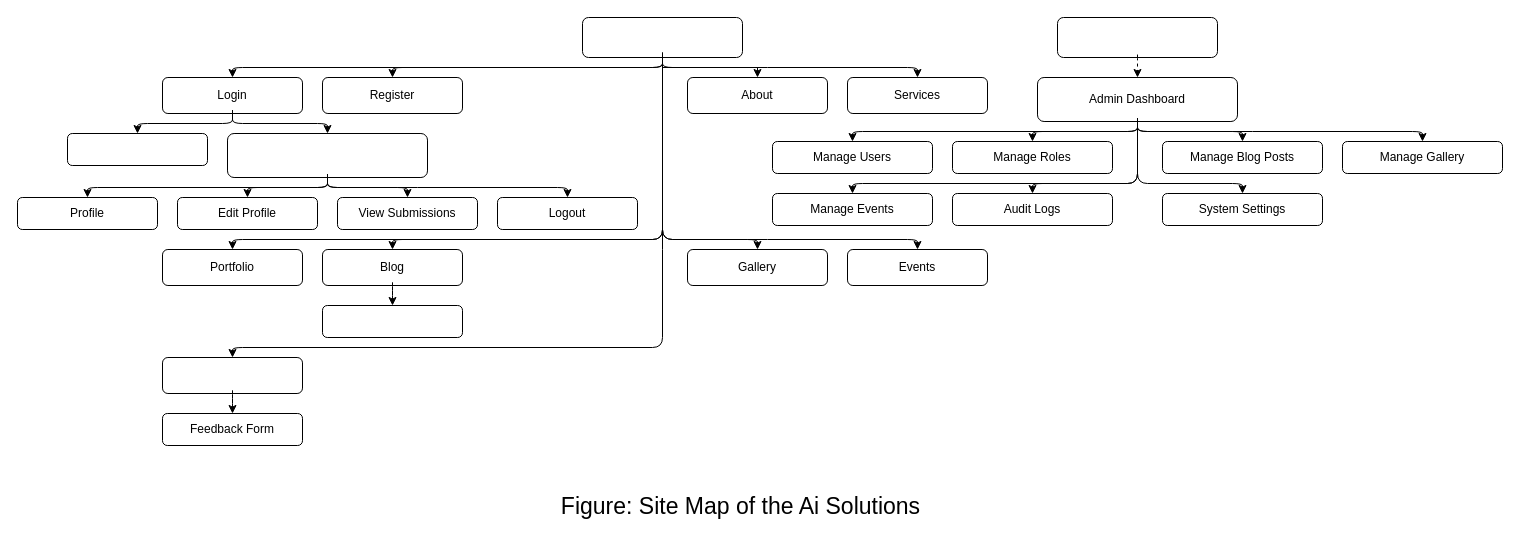
This 1520x539 diagram has some shape labels left out. The centre of each missing label's shape, as x and y in pixels:
Admin Login: point 1137,37
Blog Details: point 392,321
Contact: point 232,375
Forgot Password: point 137,149
Home: point 662,37
User Dashboard: point 327,155
